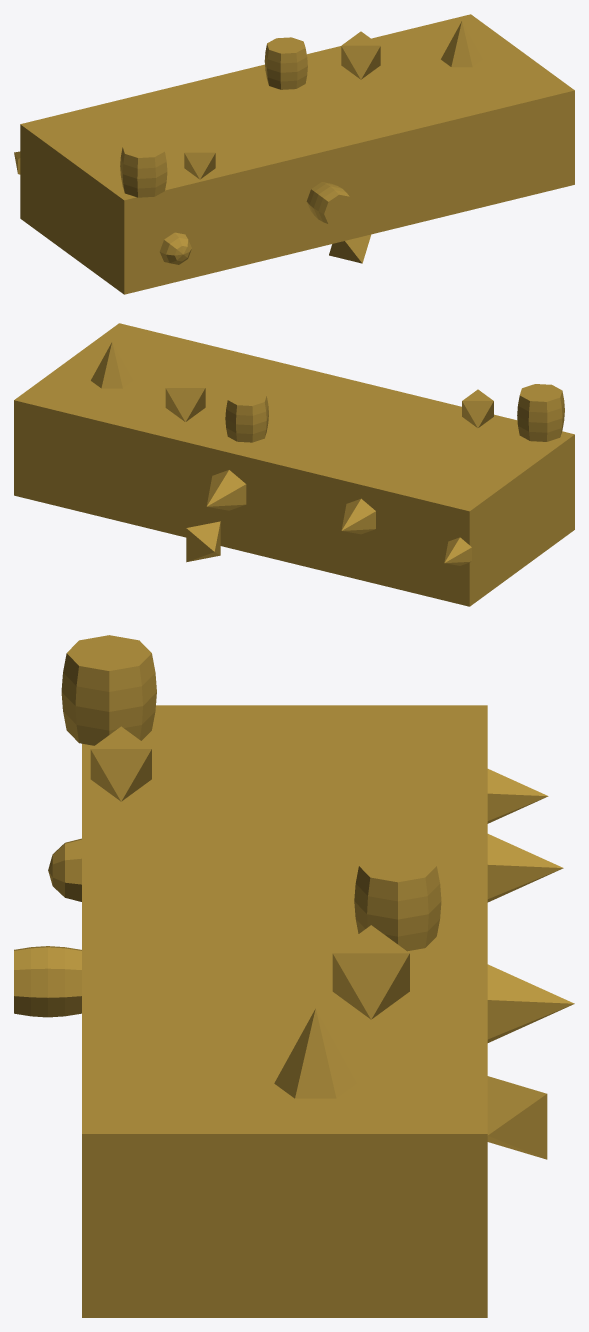
The picture shows the model from 3 angles, top to bottom: view 1: azimuth 30°, elevation 25°; view 2: azimuth 150°, elevation 25°; view 3: azimuth 270°, elevation 25°; orthographic projection. The views are drawn at different scales.
Visible parts, largest first — view 1: object03_high; view 2: object03_high; view 3: object03_high.
Part boxes in pixels (left/top/right/bottom): object03_high: left=14, top=14, right=574, bottom=294; object03_high: left=14, top=323, right=574, bottom=606; object03_high: left=14, top=635, right=574, bottom=1317.
Bounding box in the file's own units: 5.03 × 1.73 × 2.76.
